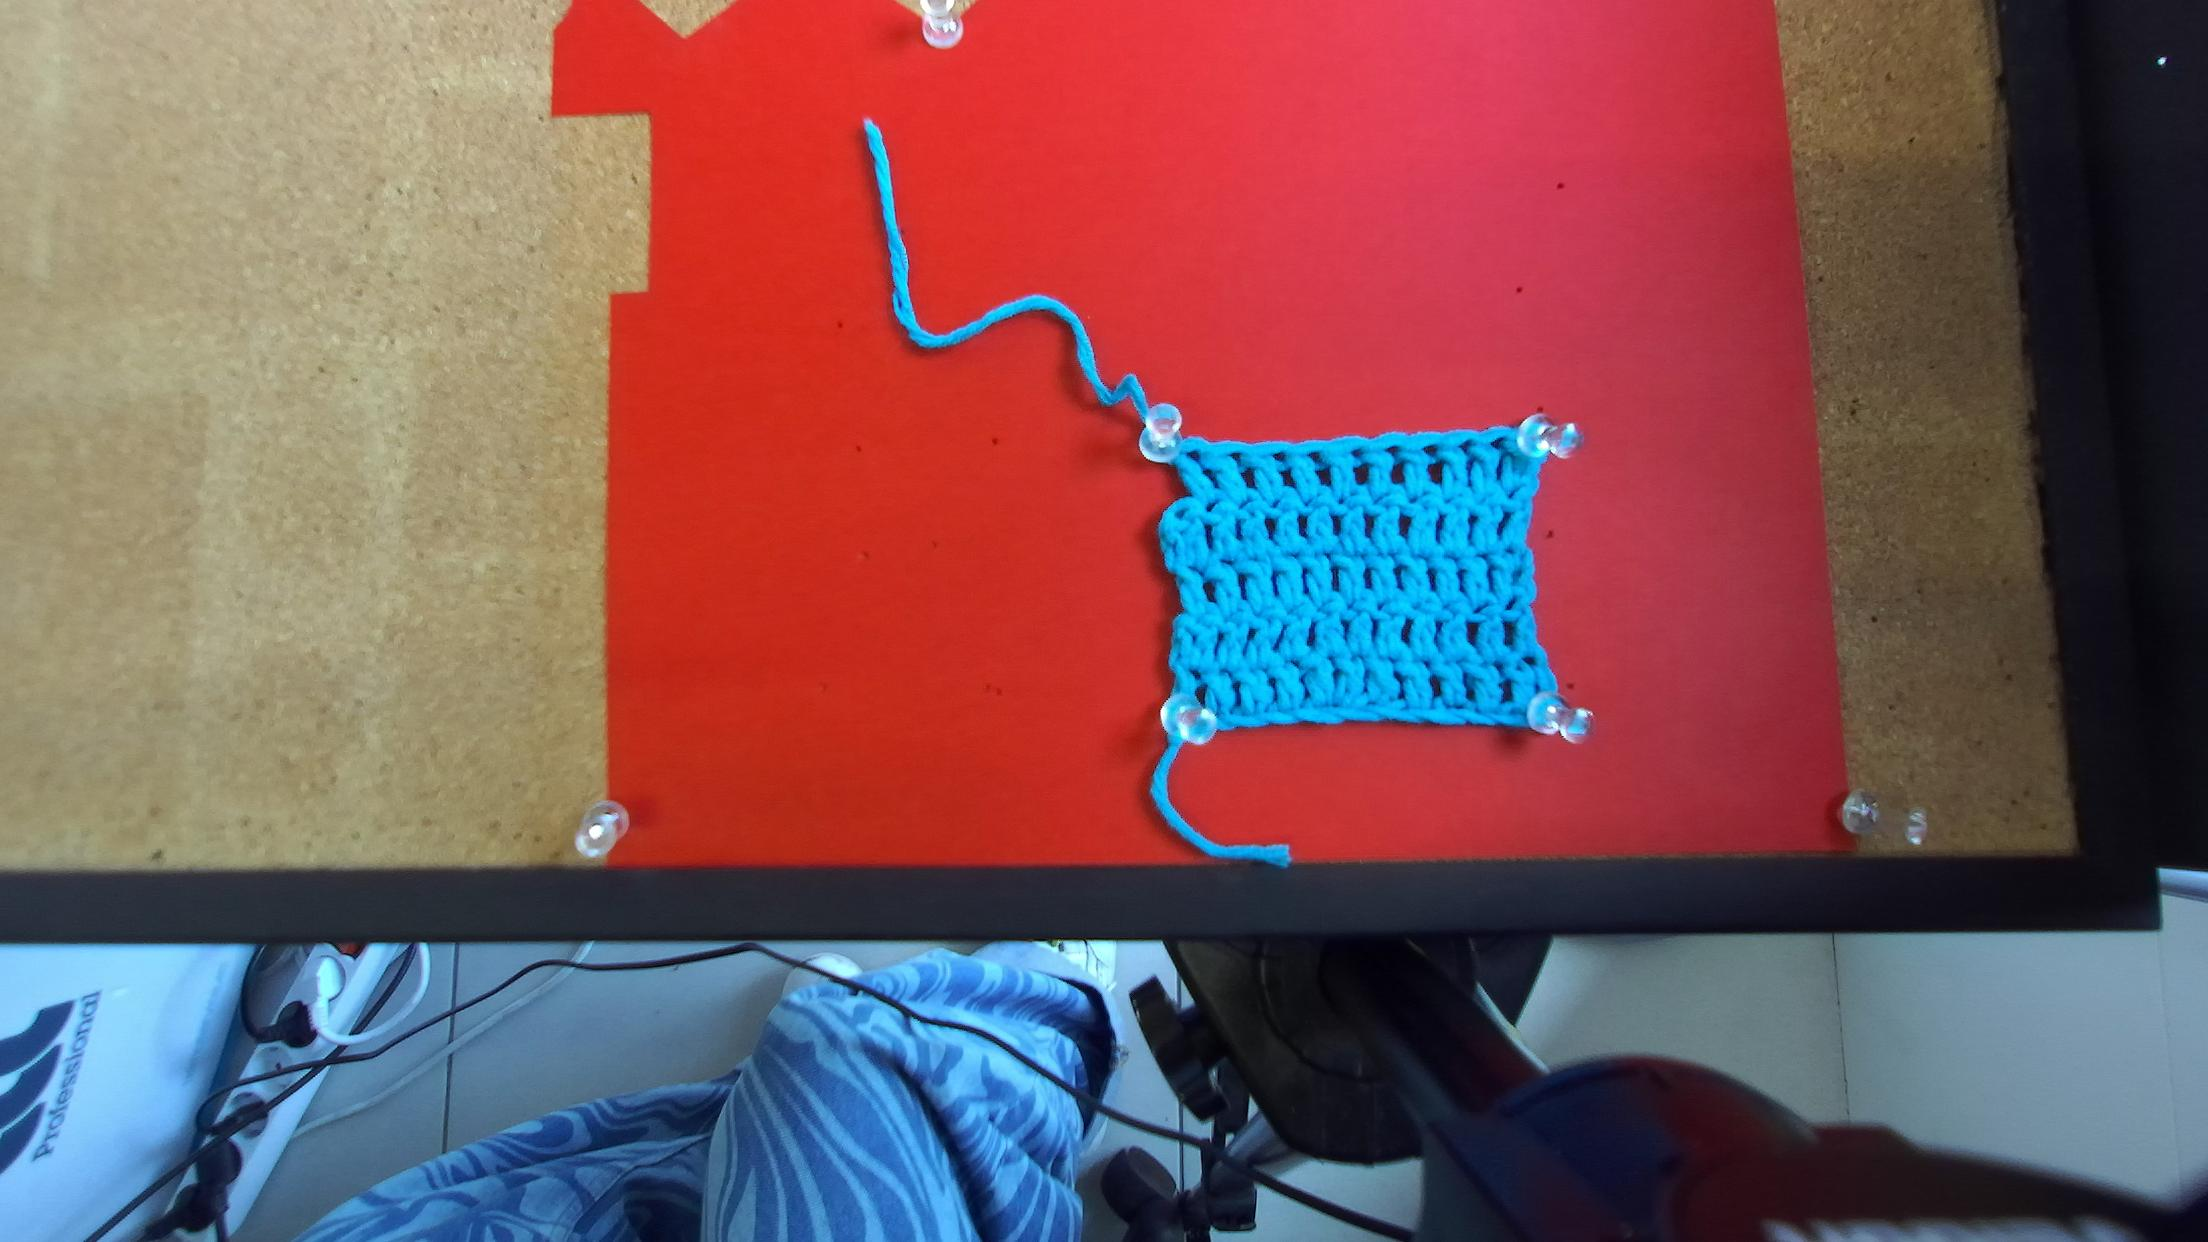hole: (1457, 438, 1474, 453), (1383, 446, 1403, 458), (1488, 437, 1504, 450), (1225, 450, 1244, 463), (1421, 444, 1439, 456), (1186, 449, 1200, 464), (1306, 452, 1322, 464), (1269, 452, 1286, 463), (1350, 447, 1363, 458)
swatch: (1140, 420, 1585, 752)
